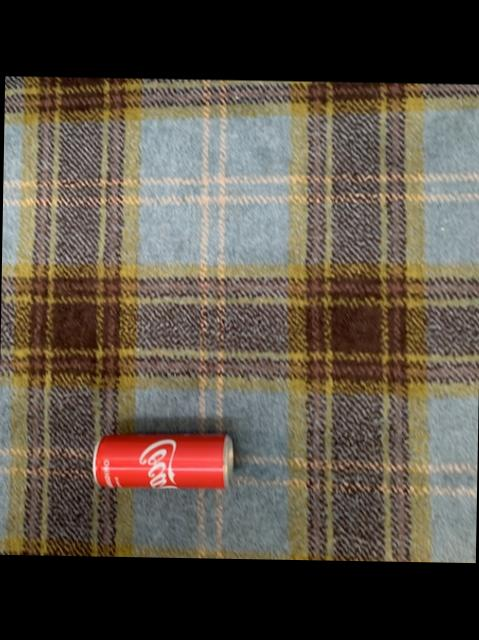metal: (93, 436, 232, 490)
